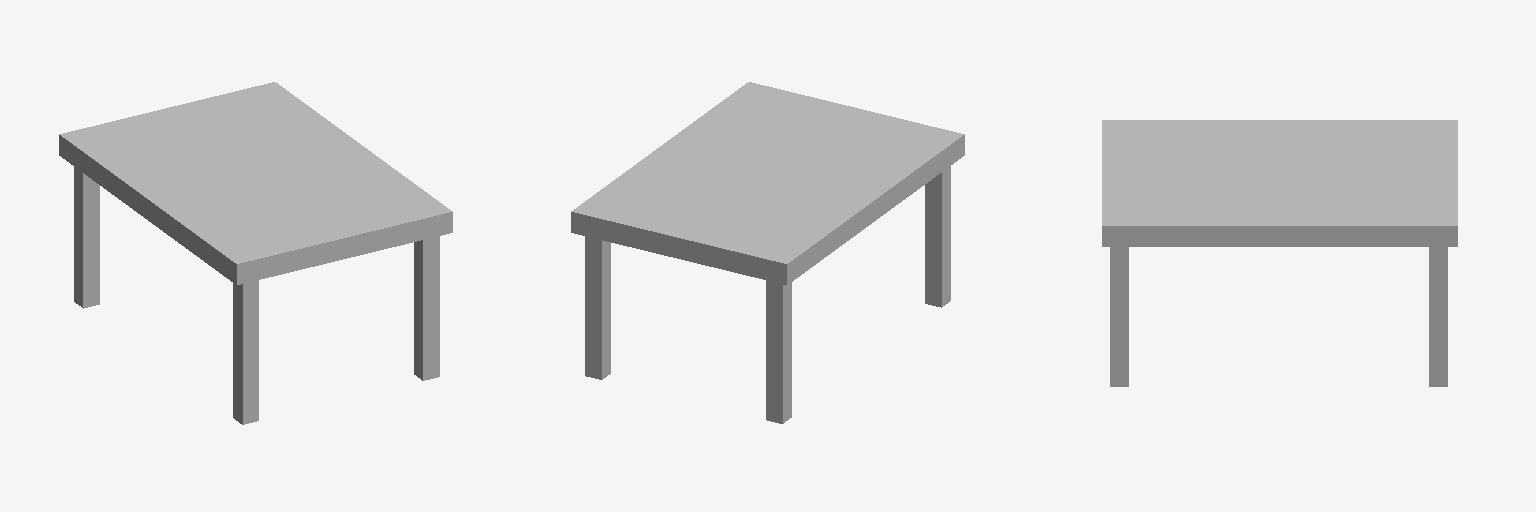
The model's file is Small Short Table LOD1.obj.
3 renders of one model, left to right at view 1: azimuth 30°, elevation 25°; view 2: azimuth 150°, elevation 25°; view 3: azimuth 270°, elevation 25°, orthographic.
Visible parts, largest first — view 1: Table_Cube.036, Leg.013_Cube.037, Leg.014_Cube.038, Leg.016_Cube.040; view 2: Table_Cube.036, Leg.016_Cube.040, Leg.015_Cube.039, Leg.013_Cube.037; view 3: Table_Cube.036, Leg.014_Cube.038, Leg.015_Cube.039.
Part boxes in pixels (left/top/right/bottom): Table_Cube.036: left=59, top=82, right=452, bottom=284; Leg.013_Cube.037: left=233, top=280, right=258, bottom=424; Leg.014_Cube.038: left=414, top=236, right=439, bottom=380; Leg.016_Cube.040: left=74, top=167, right=99, bottom=308; Table_Cube.036: left=571, top=82, right=964, bottom=284; Leg.016_Cube.040: left=766, top=280, right=791, bottom=423; Leg.015_Cube.039: left=585, top=236, right=610, bottom=379; Leg.013_Cube.037: left=925, top=166, right=950, bottom=307; Table_Cube.036: left=1102, top=120, right=1457, bottom=246; Leg.014_Cube.038: left=1110, top=247, right=1128, bottom=386; Leg.015_Cube.039: left=1429, top=247, right=1447, bottom=386.
Size of the model in its own units: 3.54 by 2.6 by 5.03.